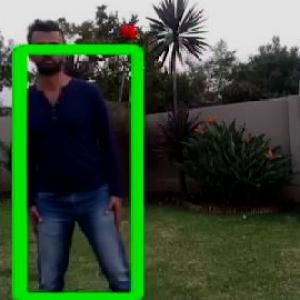follow: (20, 25, 128, 299)
